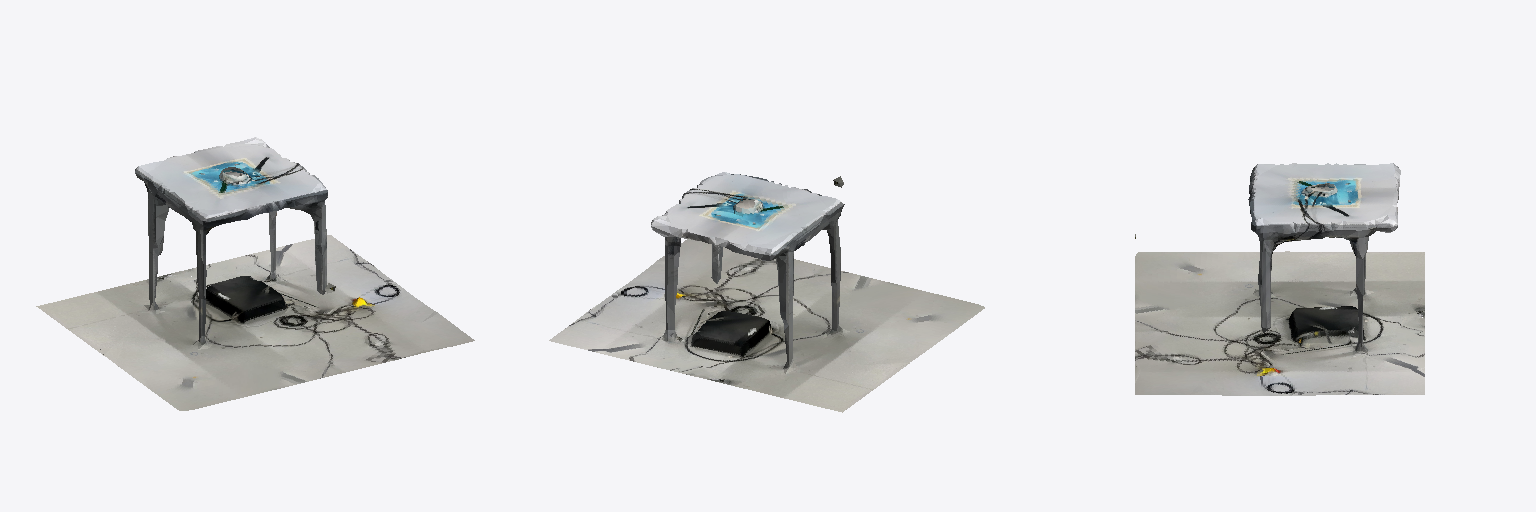
3 renders of one model, left to right at view 1: azimuth 30°, elevation 25°; view 2: azimuth 150°, elevation 25°; view 3: azimuth 270°, elevation 25°, orthographic.
Bounding box in the file's own units: 2.12 × 0.9444 × 1.82.
Materials: 1 (1 with a texture image).